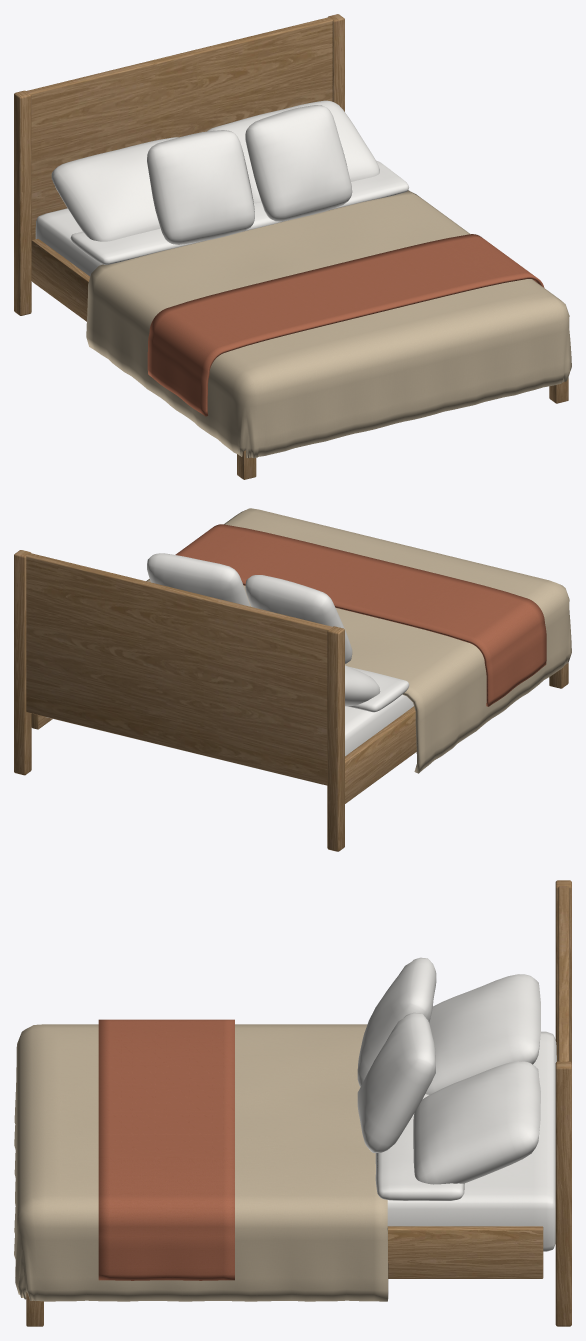
File: cama_madera_150.glb
3 renders of one model, top to bottom at view 1: azimuth 30°, elevation 25°; view 2: azimuth 150°, elevation 25°; view 3: azimuth 270°, elevation 25°, orthographic. The views are drawn at different scales.
Parts seen in each view (by area): view 1: cama_madera_150; view 2: cama_madera_150; view 3: cama_madera_150.
Part boxes in pixels (bbox=[...]): cama_madera_150: bbox=[14, 14, 571, 479]; cama_madera_150: bbox=[14, 508, 571, 851]; cama_madera_150: bbox=[14, 880, 571, 1326].
Bounding box in the file's own units: 1.72 × 1.05 × 2.04.
Materials: 4 (4 with a texture image).
